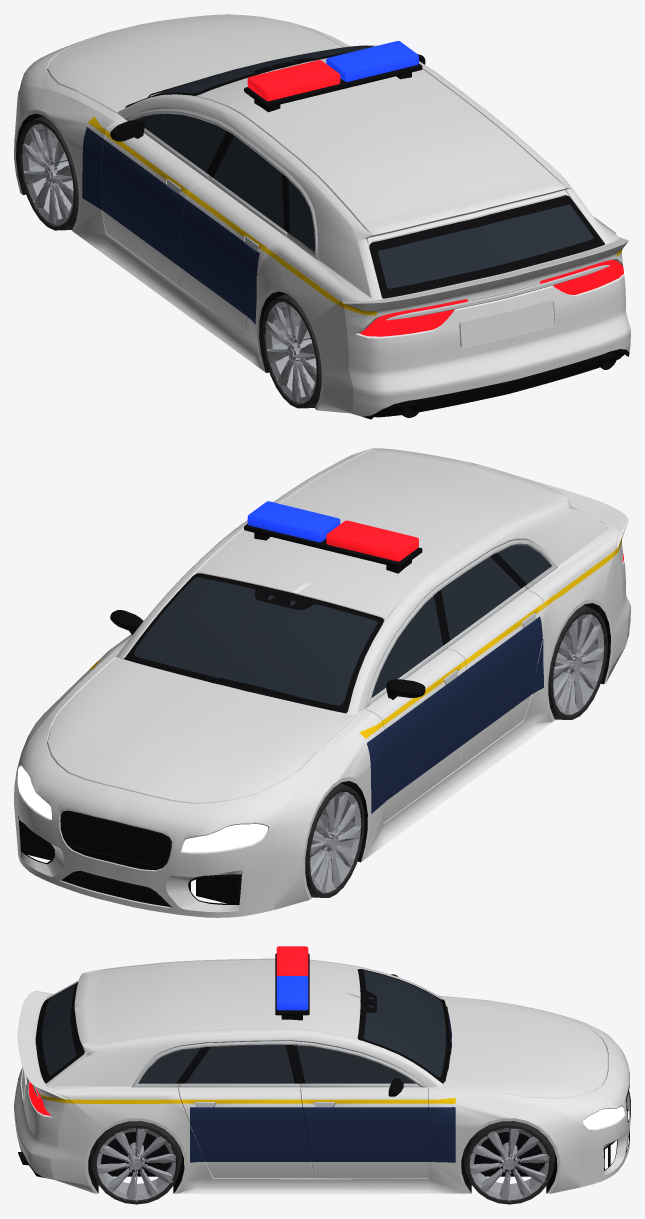
Rendered from police_interceptor.glb.
The picture shows the model from 3 angles, top to bottom: view 1: azimuth 30°, elevation 25°; view 2: azimuth 150°, elevation 25°; view 3: azimuth 270°, elevation 25°; orthographic projection. The views are drawn at different scales.
Parts seen in each view (by area): view 1: Body, Bumper_R, Glass, Hood, Wheel_FL, Wheel_RL, Lamp_R, LightBar_Red, LightBar_Blue, Mirror_L; view 2: Body, Hood, Glass, Bumper_F, Wheel_FL, Wheel_RL, Lamp_F, LightBar_Red, LightBar_Blue, Bumper_R, Mirror_L; view 3: Body, Hood, Glass, Wheel_FR, Wheel_RR, Bumper_R, Bumper_F, LightBar_Blue, LightBar_Red, Lamp_F.
Part boxes in pixels (box(x1,y1,x2,y2)): Body: box(14, 45, 628, 409); Bumper_R: box(317, 276, 630, 419); Glass: box(134, 45, 593, 288); Hood: box(19, 14, 350, 115); Wheel_FL: box(18, 115, 78, 230); Wheel_RL: box(262, 293, 321, 408); Lamp_R: box(360, 260, 623, 336); LightBar_Red: box(247, 60, 340, 101); LightBar_Blue: box(326, 41, 418, 81); Mirror_L: box(110, 120, 144, 141); Body: box(17, 448, 628, 909); Hood: box(19, 658, 362, 833); Glass: box(134, 545, 551, 705); Bumper_F: box(14, 753, 309, 917); Wheel_FL: box(305, 783, 364, 897); Wheel_RL: box(548, 605, 607, 719); Lamp_F: box(17, 766, 267, 852); LightBar_Red: box(326, 520, 418, 561); LightBar_Blue: box(247, 501, 340, 542); Bumper_R: box(606, 562, 630, 681); Mirror_L: box(386, 679, 425, 699); Body: box(17, 953, 629, 1193); Hood: box(443, 996, 628, 1121); Glass: box(41, 970, 445, 1083); Wheel_FR: box(463, 1121, 555, 1204); Wheel_RR: box(90, 1121, 181, 1204); Bumper_R: box(14, 1067, 94, 1193); Bumper_F: box(550, 1072, 630, 1187); LightBar_Blue: box(276, 976, 308, 1010); LightBar_Red: box(276, 946, 308, 976); Lamp_F: box(583, 1106, 624, 1129).
Size of the model in its own units: 2.09 by 1.49 by 4.67.
